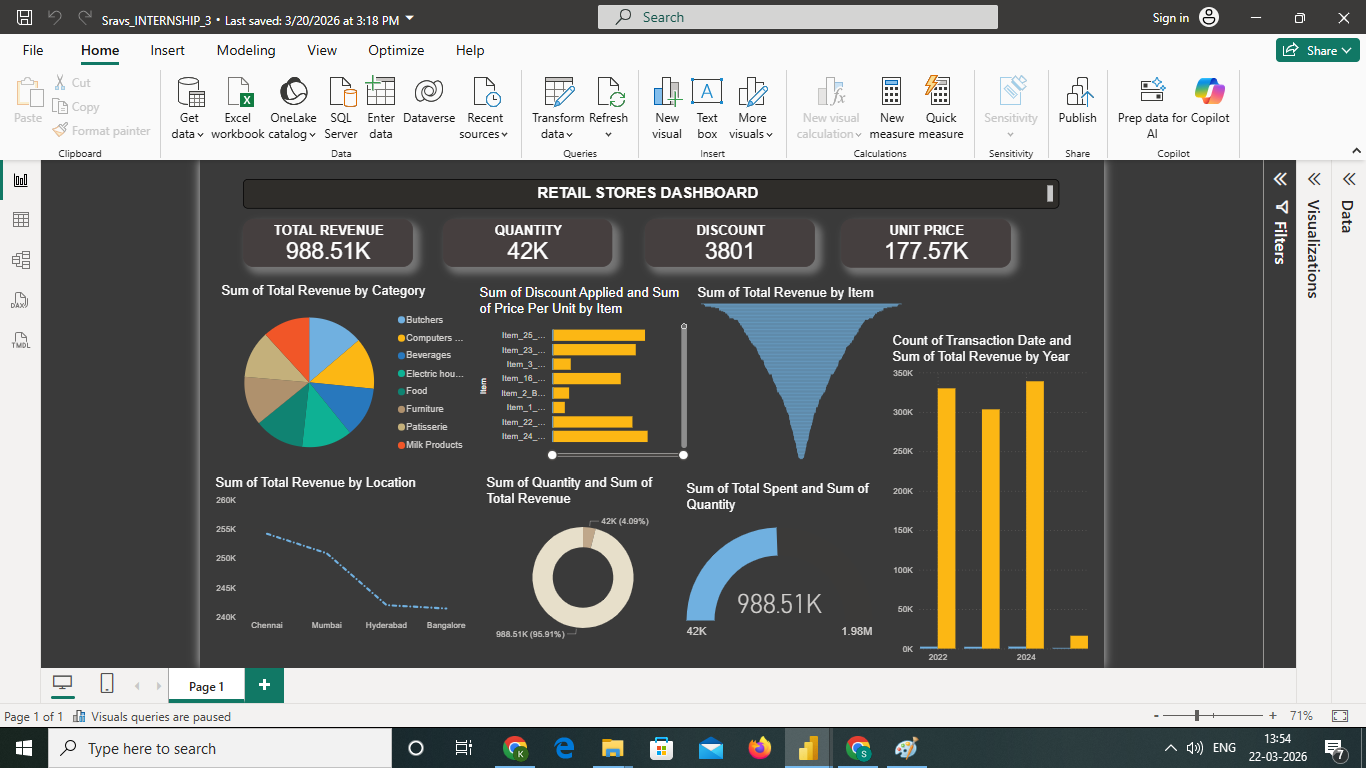

What the dashboard file says about the page in this screenshot:
{"tool":"powerbi","page":{"name":"Page 1","canvas":[1280,720],"ordinal":0},"visuals":[{"type":"card","title":"TOTAL REVENUE","fields":{"Values":["Sum(cleaned_sales_data.Total Revenue)"]},"box":[60.3,83.2,241.3,67.6],"z":0},{"type":"card","title":"QUANTITY ","fields":{"Values":["Sum(cleaned_sales_data.Quantity)"]},"box":[343.8,83.2,240.1,67.6],"z":1000},{"type":"card","title":"DISCOUNT ","fields":{"Values":["Sum(cleaned_sales_data.Discount Applied)"]},"box":[631,83.2,241.3,67.6],"z":2000},{"type":"card","title":"UNIT PRICE","fields":{"Values":["Sum(cleaned_sales_data.Price Per Unit)"]},"box":[908.4,83.2,241.3,68.8],"z":3000},{"type":"pieChart","fields":{"Category":["cleaned_sales_data.Category"],"Y":["Sum(cleaned_sales_data.Total Revenue)"]},"box":[25.3,173.7,365.6,260.6],"z":4000},{"type":"lineChart","fields":{"Y":["Sum(cleaned_sales_data.Total Revenue)"],"Category":["cleaned_sales_data.Location"]},"box":[16.9,446.4,374,229.2],"z":5000},{"type":"barChart","fields":{"Y":["Sum(cleaned_sales_data.Discount Applied)","Sum(cleaned_sales_data.Price Per Unit)"],"Category":["cleaned_sales_data.Item"]},"box":[390.9,177.3,304,252.1],"z":6000},{"type":"donutChart","fields":{"Y":["Sum(cleaned_sales_data.Quantity)","Sum(cleaned_sales_data.Total Revenue)"]},"box":[400.5,446.4,283.5,248.5],"z":7000},{"type":"funnel","fields":{"Category":["cleaned_sales_data.Item"],"Y":["Sum(cleaned_sales_data.Total Revenue)"]},"box":[699.7,177.3,304,252.1],"z":8000},{"type":"clusteredColumnChart","fields":{"Category":["cleaned_sales_data.Transaction Date.Variation.Date Hierarchy.Year","cleaned_sales_data.Transaction Date.Variation.Date Hierarchy.Quarter","cleaned_sales_data.Transaction Date.Variation.Date Hierarchy.Month","cleaned_sales_data.Transaction Date.Variation.Date Hierarchy.Day"],"Y":["CountNonNull(cleaned_sales_data.Transaction Date)","Sum(cleaned_sales_data.Total Revenue)"]},"box":[976,244.9,287.1,475.3],"z":9000},{"type":"gauge","fields":{"Y":["Sum(cleaned_sales_data.Total Spent)"],"MinValue":["Sum(cleaned_sales_data.Quantity)"]},"box":[684.1,454.8,273.9,248.5],"z":10000},{"type":"textbox","box":[60.3,26.5,1157,42.2],"z":11000}]}

Visuals, with their boxes on the page's 1280x720 design canvas (x1, y1, x2, y2). These are canvas units, not pixel positions in the 1366x768 screenshot, which may show the page scaled, cropped or inside an application window:
"TOTAL REVENUE" card: select_region(60, 83, 302, 151)
"QUANTITY " card: select_region(344, 83, 584, 151)
"DISCOUNT " card: select_region(631, 83, 872, 151)
"UNIT PRICE" card: select_region(908, 83, 1150, 152)
pieChart - cleaned_sales_data.Category x Sum(cleaned_sales_data.Total Revenue): select_region(25, 174, 391, 434)
lineChart - Sum(cleaned_sales_data.Total Revenue) x cleaned_sales_data.Location: select_region(17, 446, 391, 676)
barChart - Sum(cleaned_sales_data.Discount Applied) x Sum(cleaned_sales_data.Price Per Unit): select_region(391, 177, 695, 429)
donutChart - Sum(cleaned_sales_data.Quantity) x Sum(cleaned_sales_data.Total Revenue): select_region(400, 446, 684, 695)
funnel - cleaned_sales_data.Item x Sum(cleaned_sales_data.Total Revenue): select_region(700, 177, 1004, 429)
clusteredColumnChart - cleaned_sales_data.Transaction Date.Variation.Date Hierarchy.Year x cleaned_sales_data.Transaction Date.Variation.Date Hierarchy.Quarter: select_region(976, 245, 1263, 720)
gauge - Sum(cleaned_sales_data.Total Spent) x Sum(cleaned_sales_data.Quantity): select_region(684, 455, 958, 703)
textbox: select_region(60, 26, 1217, 69)
